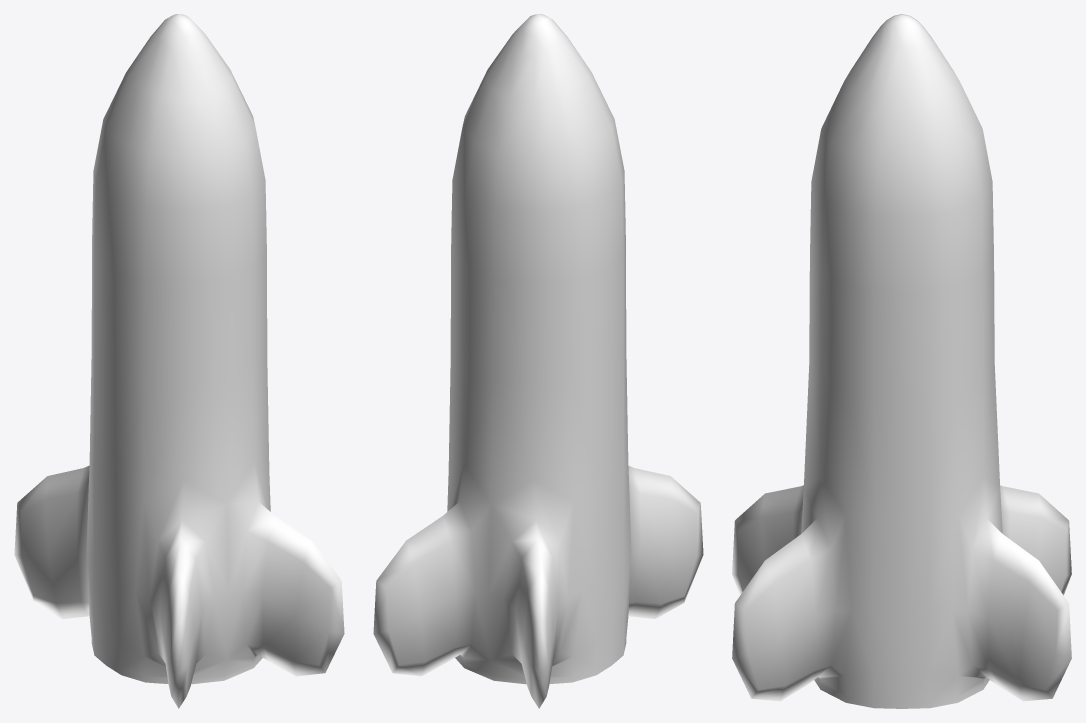
3 views of the same model, side by side, from view 1: azimuth 30°, elevation 25°; view 2: azimuth 150°, elevation 25°; view 3: azimuth 270°, elevation 25° (orthographic). The views are drawn at different scales.
Parts seen in each view (by area): view 1: 柱体; view 2: 柱体; view 3: 柱体.
Part boxes in pixels (<box>): 柱体: <box>14,14,344,708</box>; 柱体: <box>373,14,703,708</box>; 柱体: <box>732,14,1071,708</box>.
Size of the model in its own units: 182 by 656 by 308.
1 material, 1 textured.
